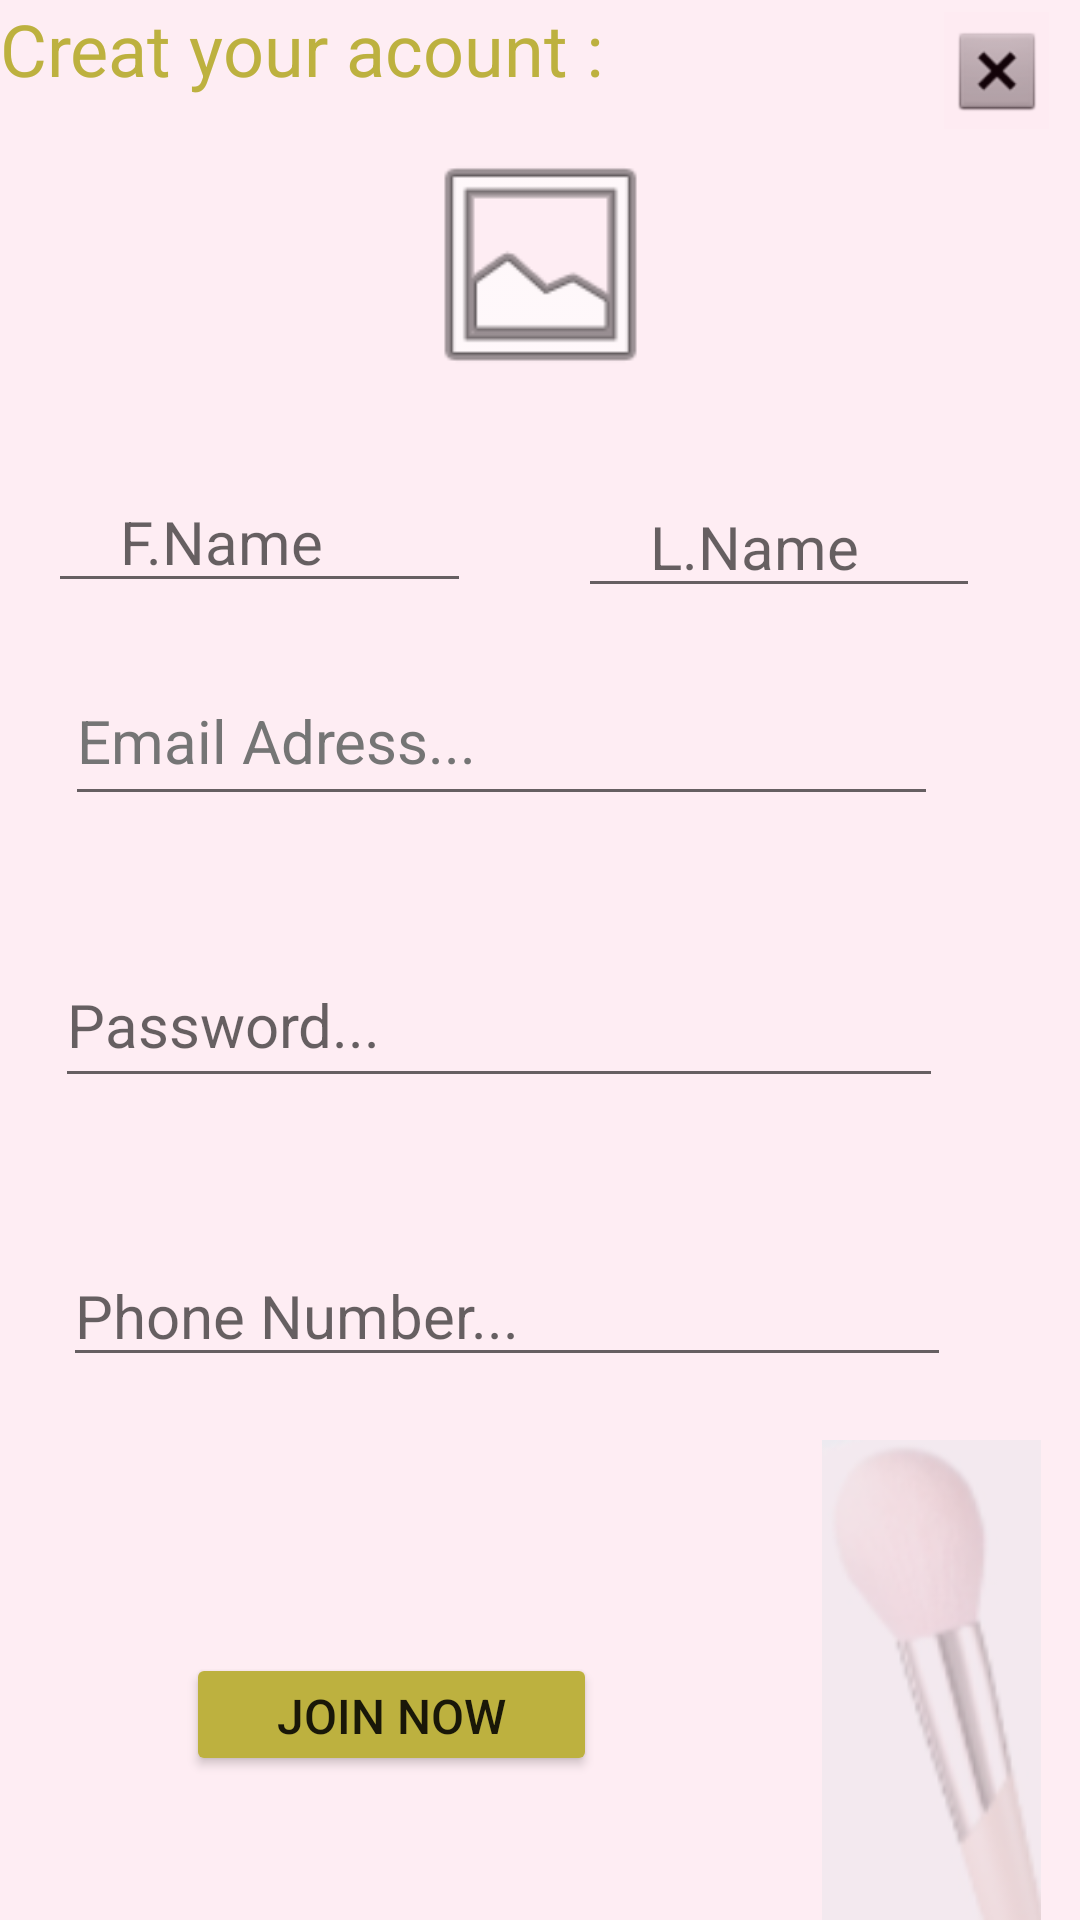

Icon click points for this 1080px x 1920px phone screenshot, format (x,y):
gallery: (540,264)
